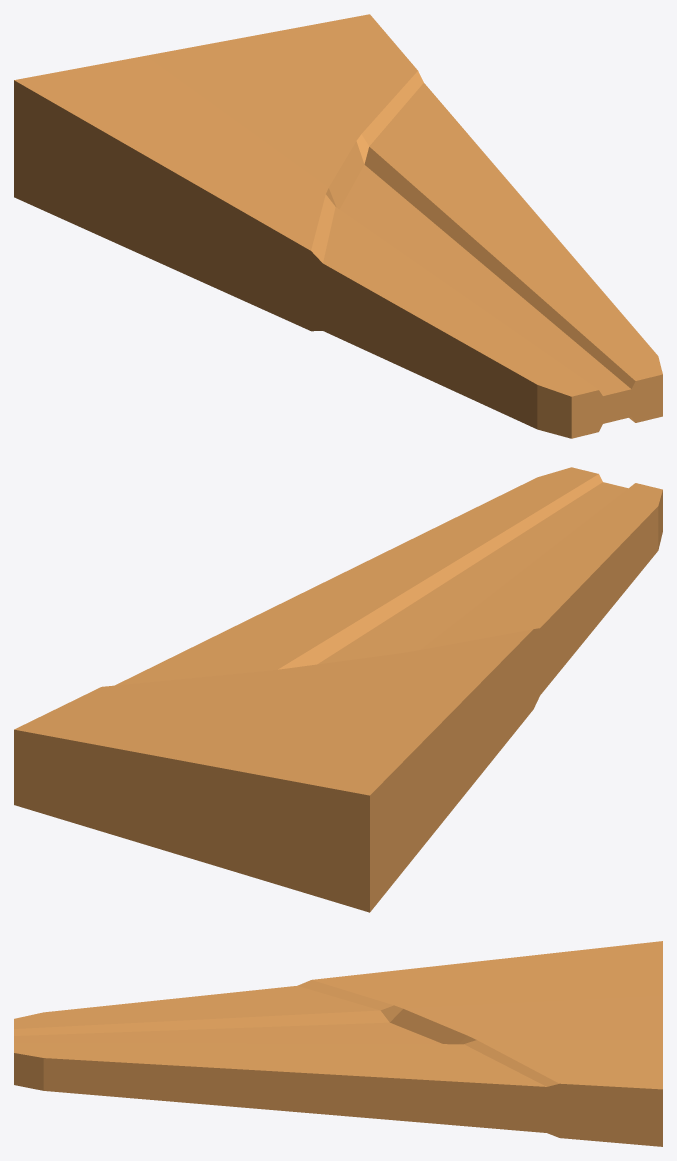
The model's file is Platform_002.fbx.
3 views of the same model, one above another, from view 1: azimuth 30°, elevation 25°; view 2: azimuth 150°, elevation 25°; view 3: azimuth 270°, elevation 25° (orthographic). The views are drawn at different scales.
Parts seen in each view (by area): view 1: pPlane29; view 2: pPlane29; view 3: pPlane29.
Part boxes in pixels (<box>): pPlane29: <box>14,14,662,438</box>; pPlane29: <box>14,467,662,912</box>; pPlane29: <box>14,941,662,1146</box>.
Size of the model in its own units: 122 by 38.27 by 252.
